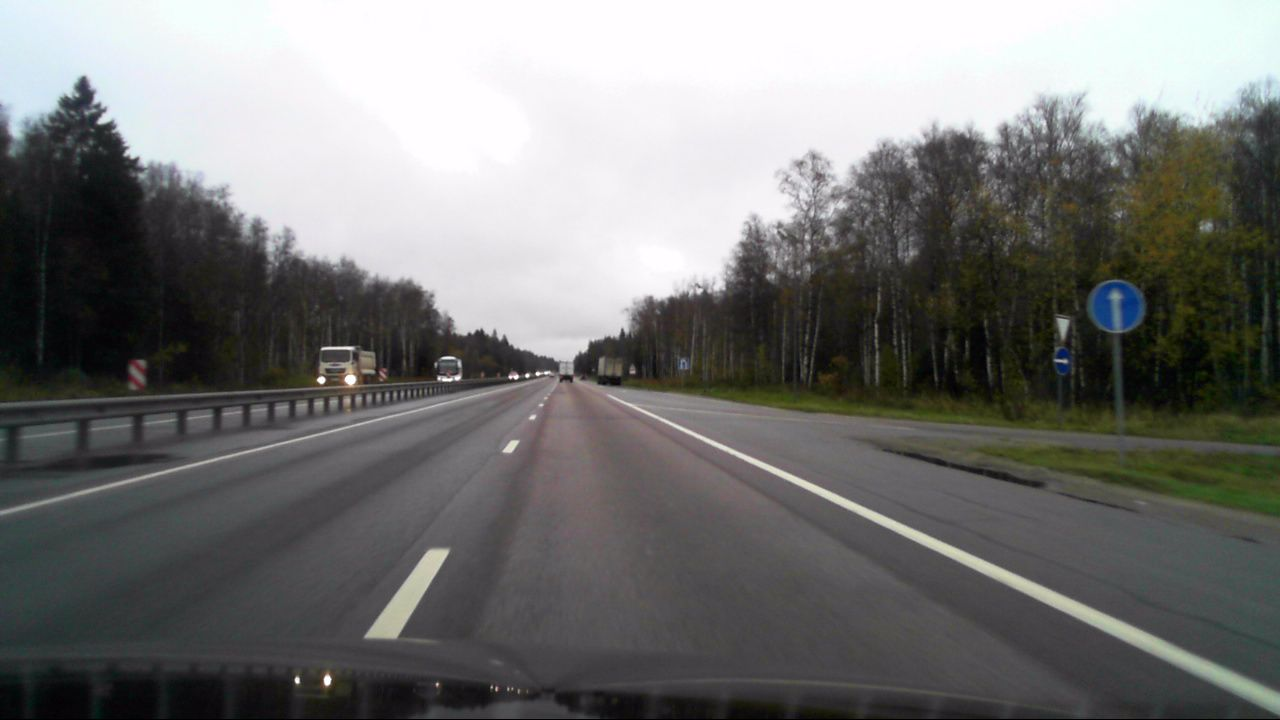Turn Right: (1052, 347, 1072, 376)
